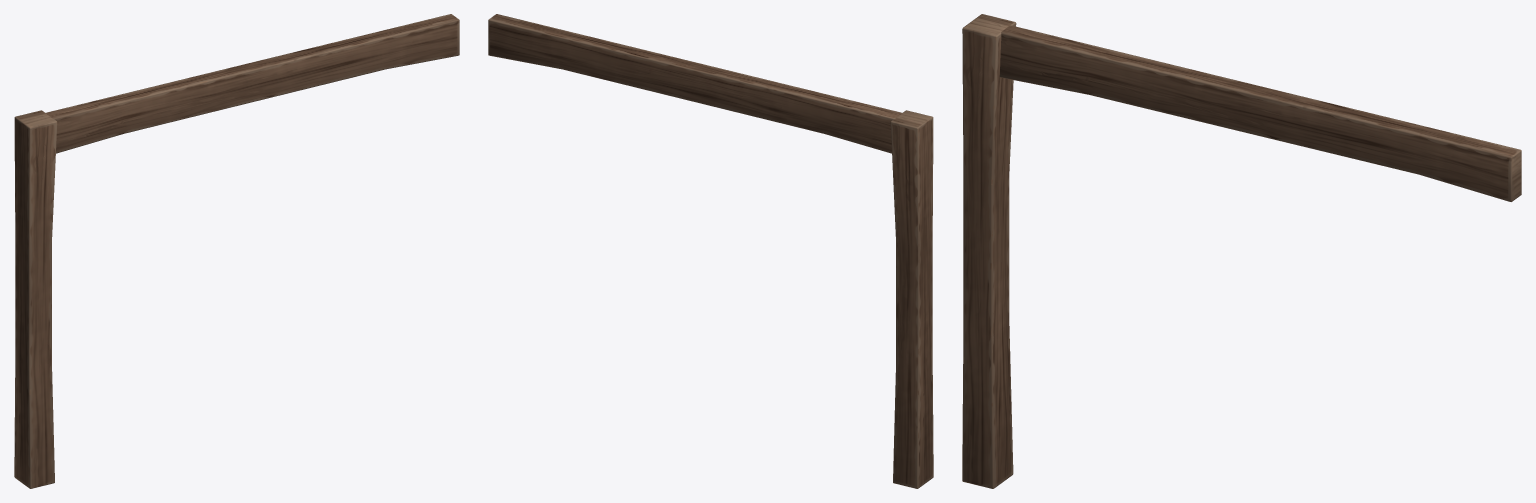
File: Hangar01B_2.FBX
3 views of the same model, side by side, from view 1: azimuth 30°, elevation 25°; view 2: azimuth 150°, elevation 25°; view 3: azimuth 330°, elevation 25° (orthographic). The views are drawn at different scales.
Parts seen in each view (by area): view 1: Hangar01B_2; view 2: Hangar01B_2; view 3: Hangar01B_2.
Boxes of the visible parts, x1,y1,x2,y2 form: Hangar01B_2: (14,14,459,488); Hangar01B_2: (488,14,933,488); Hangar01B_2: (962,14,1521,488).
Size of what is drawn, in the model's own units: 4.4 by 3.5 by 0.2858.
